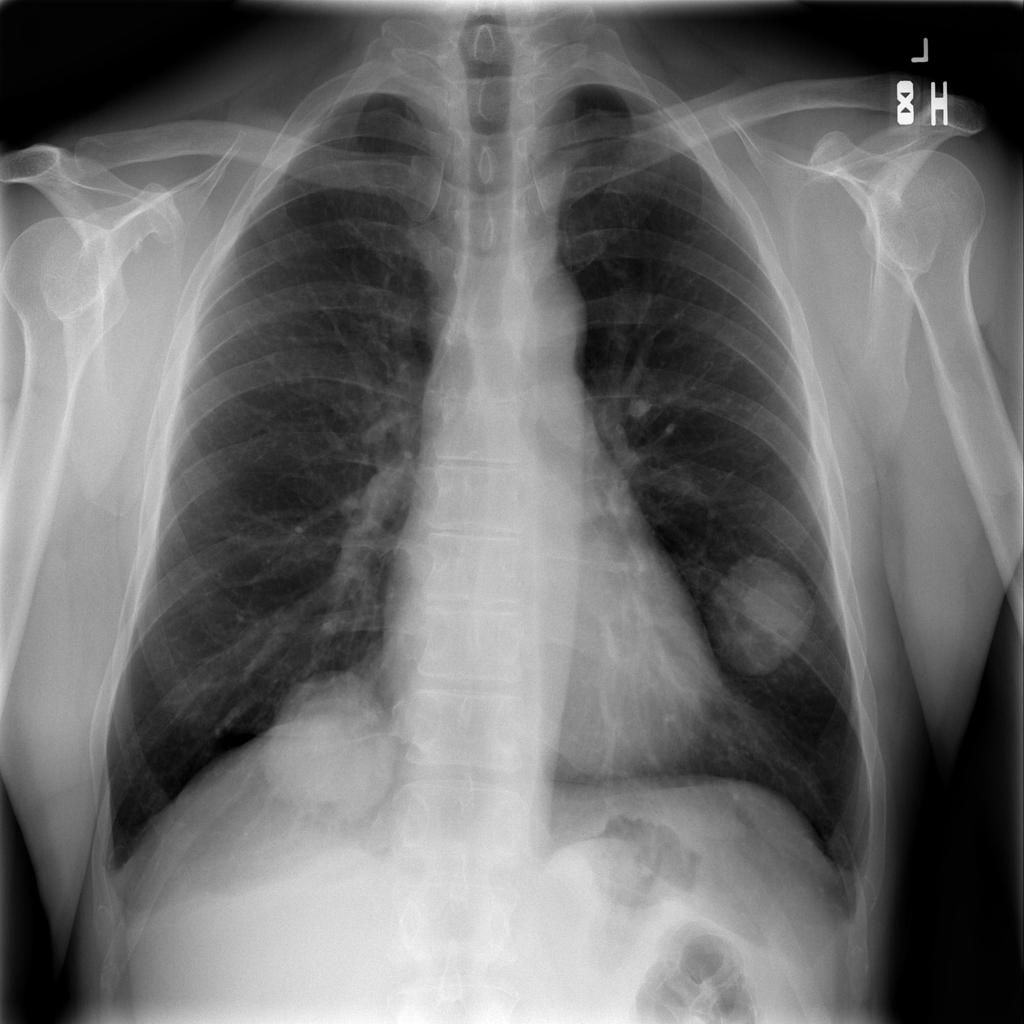nodule: (263, 671, 409, 833), (695, 536, 834, 683)
